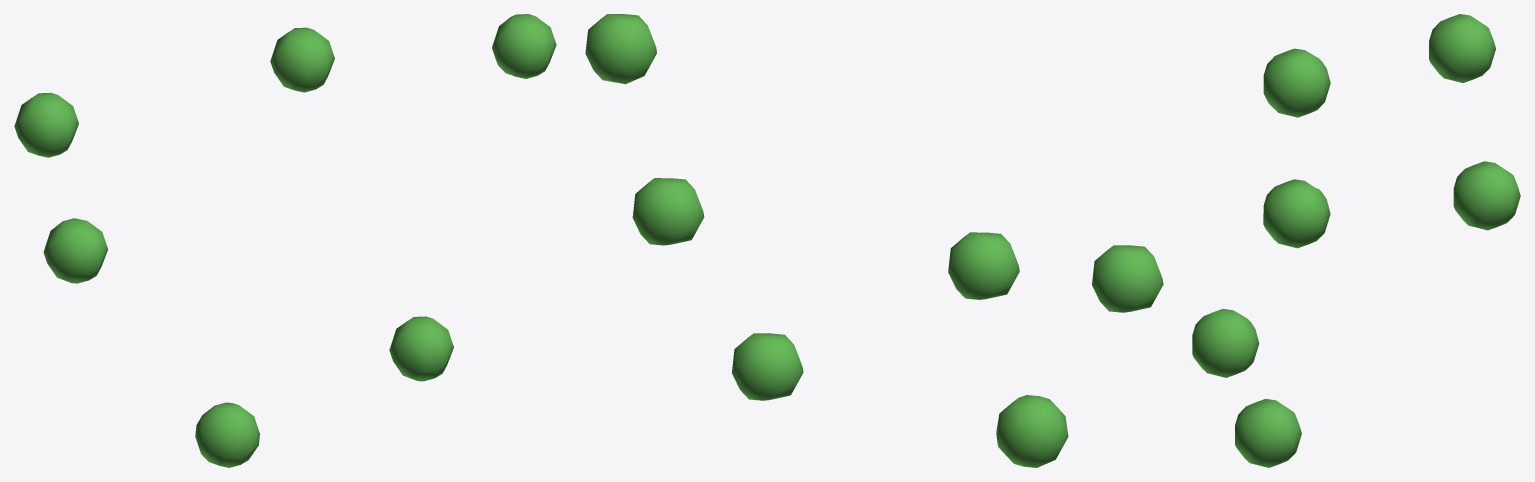
Rendered from linfatico-pararectal-nodes.glb.
3 renders of one model, left to right at view 1: azimuth 30°, elevation 25°; view 2: azimuth 150°, elevation 25°; view 3: azimuth 270°, elevation 25°, orthographic. The views are drawn at different scales.
Visible parts, largest first — view 1: Pararectal nodes; view 2: Pararectal nodes; view 3: Pararectal nodes.
Part boxes in pixels (left/top/right/bottom): Pararectal nodes: left=14, top=14, right=556, bottom=467; Pararectal nodes: left=585, top=14, right=1163, bottom=467; Pararectal nodes: left=1192, top=14, right=1520, bottom=467.
Bounding box in the file's own units: 0.023 × 0.0149 × 0.0123.
